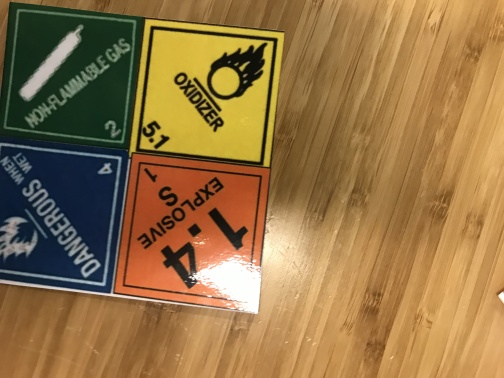DangerousWhenWet: (1, 138, 128, 293)
Explosive: (115, 155, 271, 314)
NonFlammableGas: (2, 2, 143, 150)
Oxidizer: (134, 19, 282, 168)
